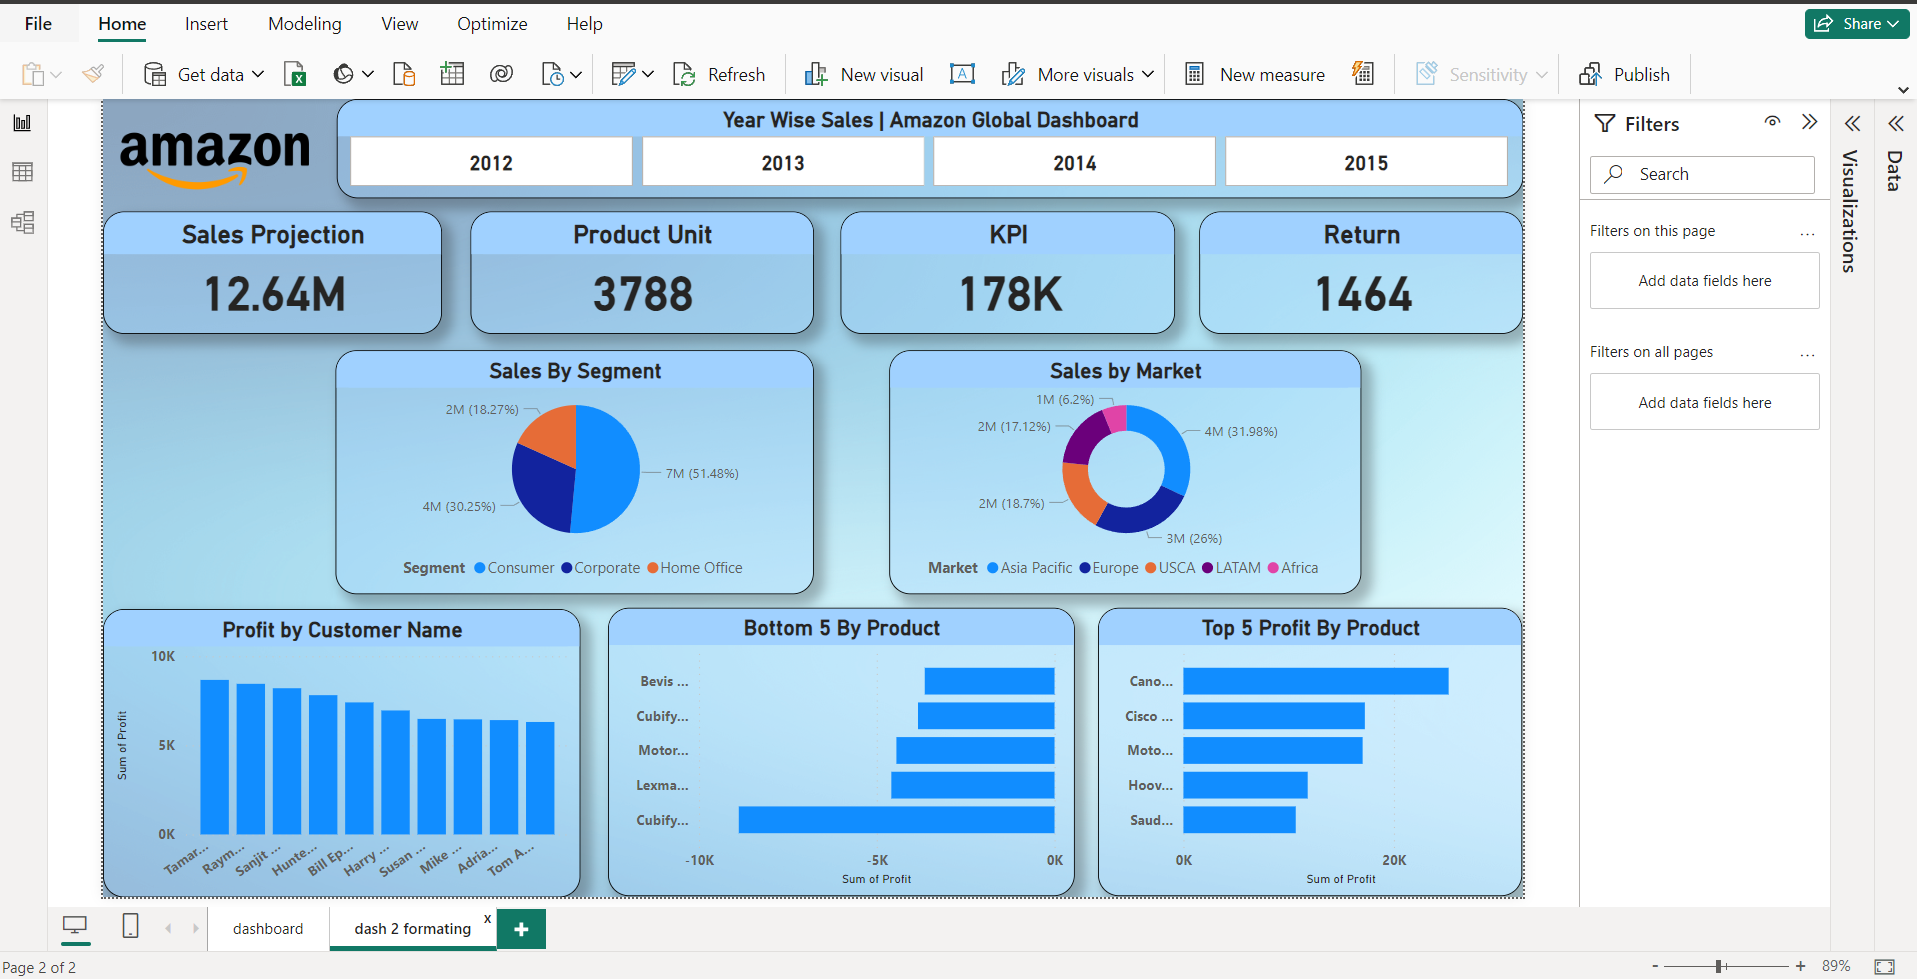

What the dashboard file says about the page in this screenshot:
{"tool":"powerbi","page":{"name":"dash  2 formating","canvas":[1280,720],"ordinal":1},"visuals":[{"type":"advancedSlicerVisual","title":"Year Wise Sales | Amazon Global Dashboard","fields":{"Values":["Orders.year"]},"box":[210.3,0,1069.6,89.2],"z":0},{"type":"card","title":"Sales Projection","fields":{"Values":["Orders.Sales"]},"box":[0,101.5,305.6,110],"z":1000},{"type":"card","title":"Product Unit","fields":{"Values":["Orders.Product Name"]},"box":[331.3,101.5,309.3,110],"z":2000},{"type":"card","title":"KPI","fields":{"Values":["Orders.Quantity"]},"box":[665,101.5,301.9,110],"z":3000},{"type":"card","title":"Return","fields":{"Values":["Orders.Ship Date"]},"box":[987.7,101.5,292.2,110],"z":4000},{"type":"pieChart","title":"Sales By Segment","fields":{"Y":["Orders.Sales"],"Category":["Orders.Segment"]},"box":[209,226.1,431.5,220],"z":5000},{"type":"donutChart","title":"Sales by Market","fields":{"Y":["Orders.Sales"],"Category":["Orders.Market"]},"box":[709,226.1,425.4,220],"z":6000},{"type":"columnChart","title":"Profit by Customer Name","fields":{"Y":["Orders.Profit"],"Category":["Orders.Customer Name"]},"box":[0,459.5,430.5,260.2],"z":7000},{"type":"clusteredBarChart","title":"Bottom 5 By  Product","fields":{"Y":["Orders.Profit"],"Category":["Orders.Product Name"]},"box":[454.7,458.4,420.5,260.4],"z":8000},{"type":"clusteredBarChart","title":"Top 5 Profit By Product","fields":{"Category":["Orders.Product Name"],"Y":["Orders.Profit"]},"box":[897.2,458.4,382.6,260.4],"z":9000},{"type":"image","box":[9.8,0,180.9,112.5],"z":11000}]}

Visuals, with their boxes on the page's 1280x720 design canvas (x1, y1, x2, y2). These are canvas units, not pixel positions in the 1917x979 screenshot, which may show the page scaled, cropped or inside an application window:
"Year Wise Sales | Amazon Global Dashboard" advancedSlicerVisual: box(210, 0, 1280, 89)
"Sales Projection" card: box(0, 102, 306, 212)
"Product Unit" card: box(331, 102, 641, 212)
"KPI" card: box(665, 102, 967, 212)
"Return" card: box(988, 102, 1280, 212)
"Sales By Segment" pieChart: box(209, 226, 640, 446)
"Sales by Market" donutChart: box(709, 226, 1134, 446)
"Profit by Customer Name" columnChart: box(0, 460, 430, 720)
"Bottom 5 By  Product" clusteredBarChart: box(455, 458, 875, 719)
"Top 5 Profit By Product" clusteredBarChart: box(897, 458, 1280, 719)
image: box(10, 0, 191, 112)
